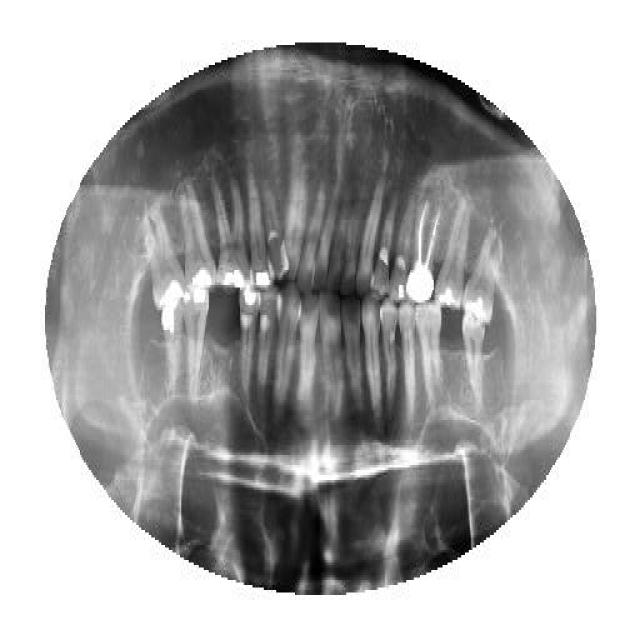Fillings: (178, 185, 218, 290), (461, 230, 505, 325), (212, 175, 246, 293), (144, 208, 181, 310), (248, 170, 272, 290), (185, 290, 209, 408), (240, 288, 261, 402), (162, 302, 186, 392)
Implant: (407, 200, 442, 302)
